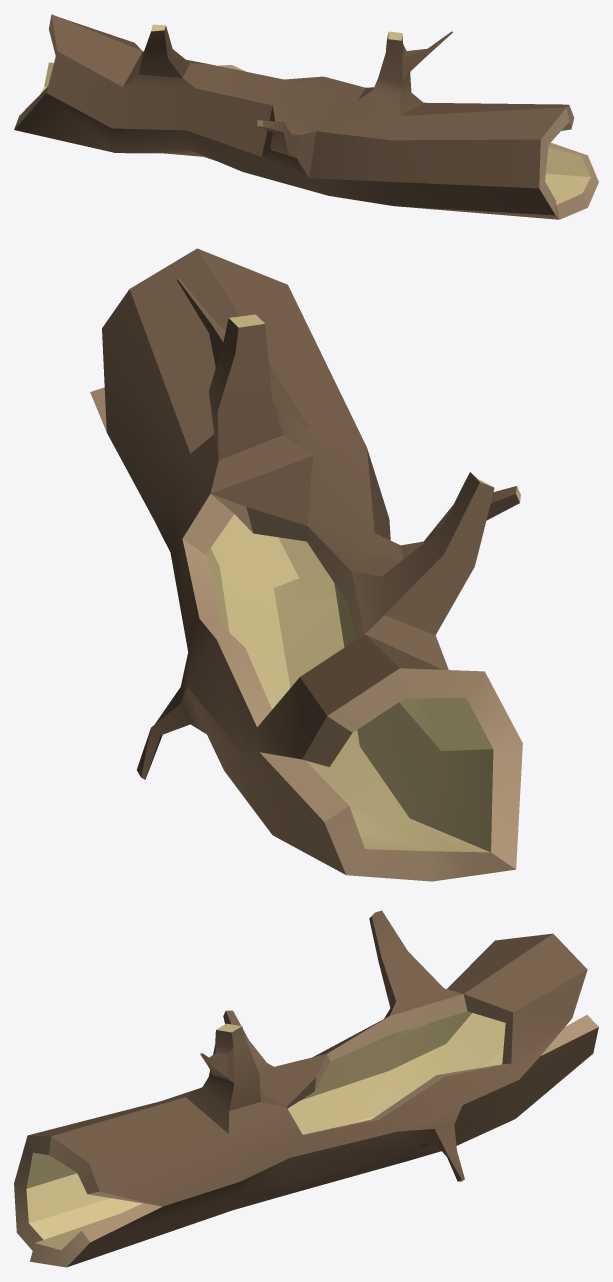
The model's file is Trunks__Stumps_Pack_Tree_trunk_01.002.fbx.
3 views of the same model, one above another, from view 1: azimuth 30°, elevation 25°; view 2: azimuth 150°, elevation 25°; view 3: azimuth 270°, elevation 25° (orthographic). The views are drawn at different scales.
Parts seen in each view (by area): view 1: Trunks__Stumps_Pack_Tree_trunk_01.002; view 2: Trunks__Stumps_Pack_Tree_trunk_01.002; view 3: Trunks__Stumps_Pack_Tree_trunk_01.002.
Part boxes in pixels (left/top/right/bottom): Trunks__Stumps_Pack_Tree_trunk_01.002: left=14, top=14, right=598, bottom=219; Trunks__Stumps_Pack_Tree_trunk_01.002: left=90, top=248, right=522, bottom=881; Trunks__Stumps_Pack_Tree_trunk_01.002: left=14, top=910, right=598, bottom=1267.
Size of the model in its own units: 96.86 by 38.9 by 102.
